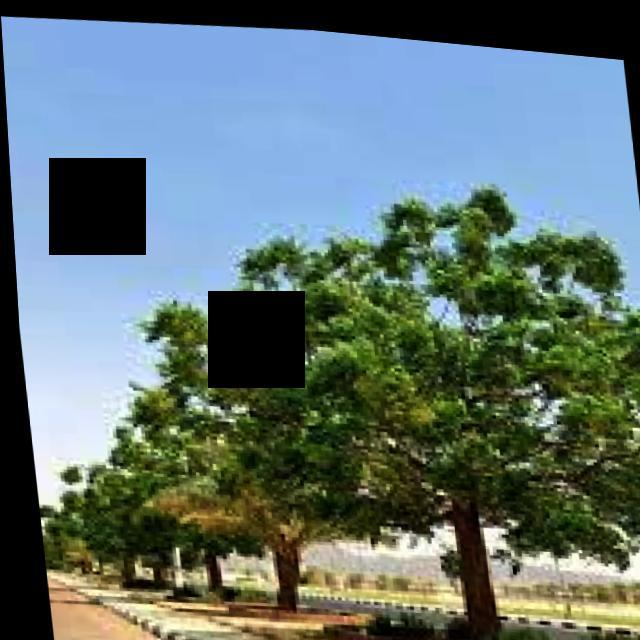Tree: (269, 162, 640, 640), (141, 276, 405, 618), (125, 373, 275, 594)
